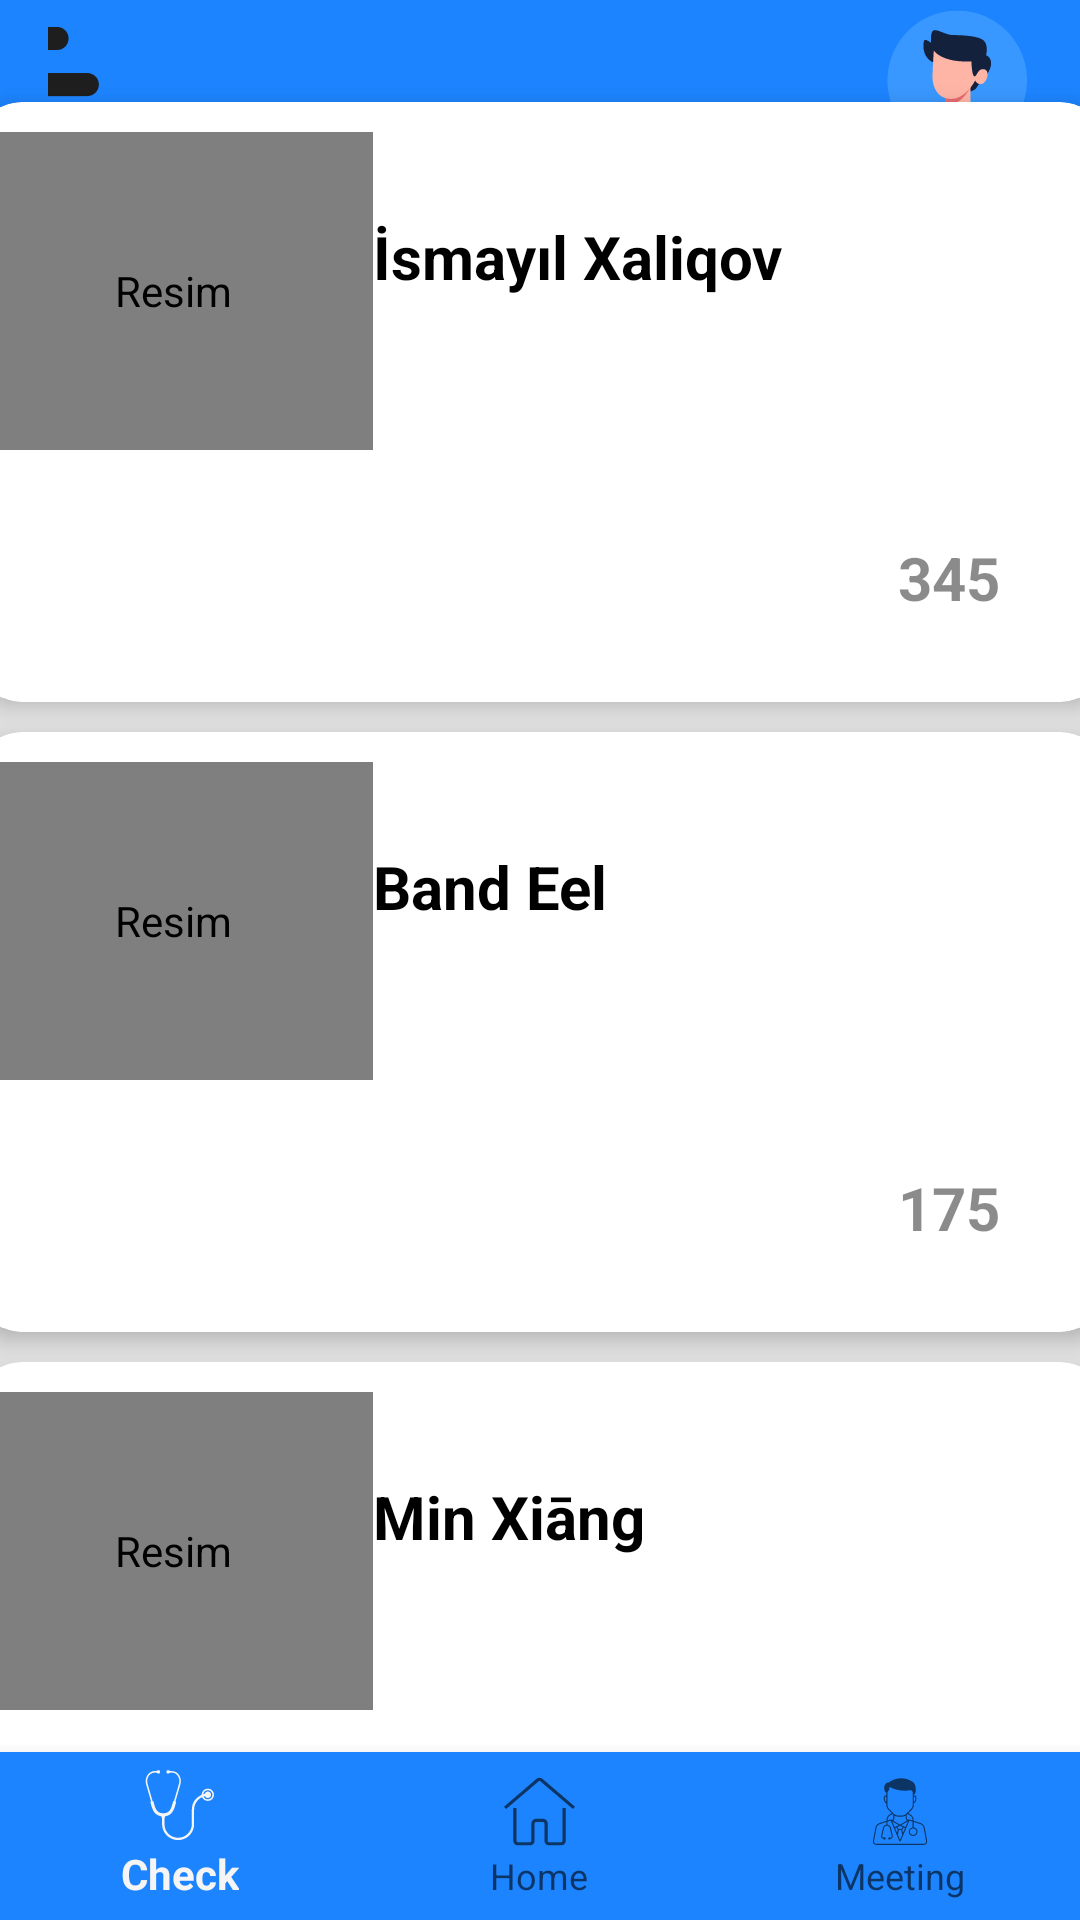

Icon click points for this 1080*1920 phone screenshot, format (x=x, y=y):
profile: (x=957, y=84)
